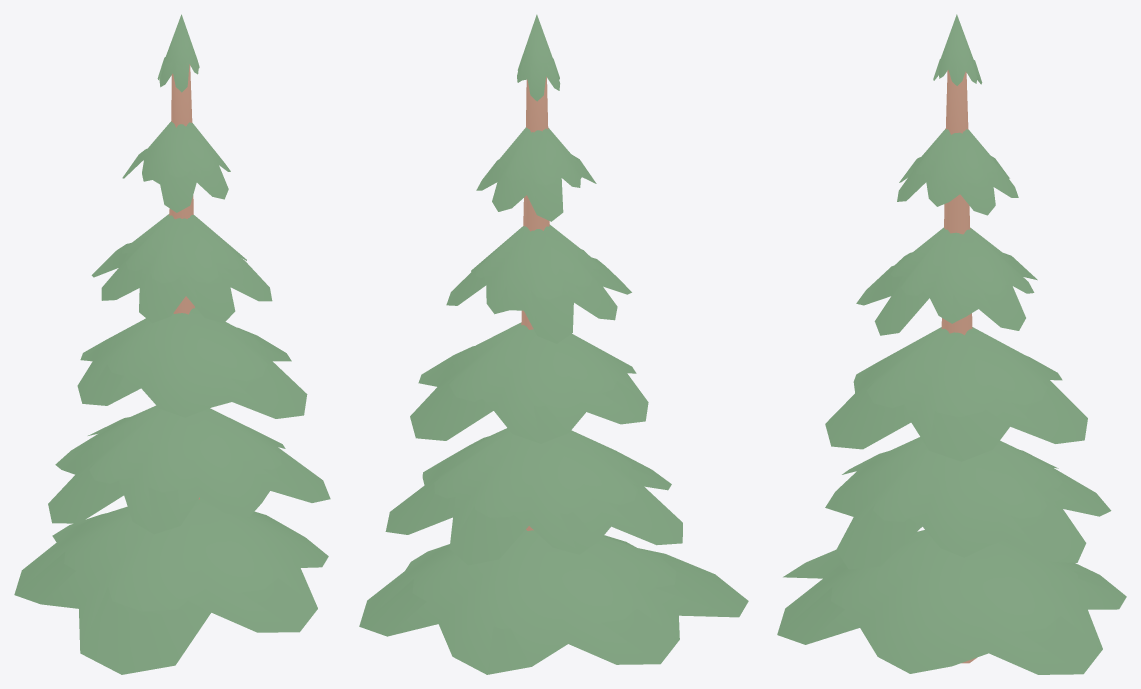
File: Blender_Seedling_1.glb
3 renders of one model, left to right at view 1: azimuth 30°, elevation 25°; view 2: azimuth 150°, elevation 25°; view 3: azimuth 270°, elevation 25°, orthographic. The views are drawn at different scales.
Visible parts, largest first — view 1: Blender_Seedling_1; view 2: Blender_Seedling_1; view 3: Blender_Seedling_1.
Part boxes in pixels (left/top/right/bottom): Blender_Seedling_1: left=14, top=14, right=330, bottom=674; Blender_Seedling_1: left=359, top=14, right=748, bottom=674; Blender_Seedling_1: left=777, top=14, right=1126, bottom=674.
Bounding box in the file's own units: 1.39 × 2.93 × 1.45.
